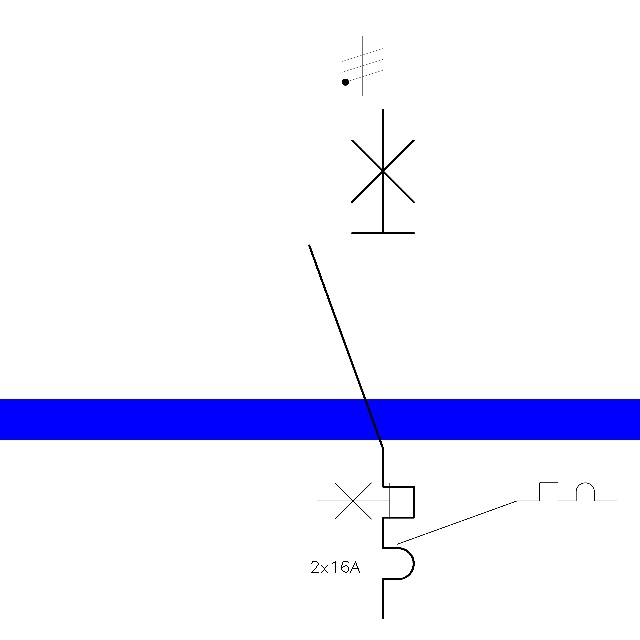interruptor_termomagnetico: (296, 96, 427, 630), (309, 475, 625, 552)
